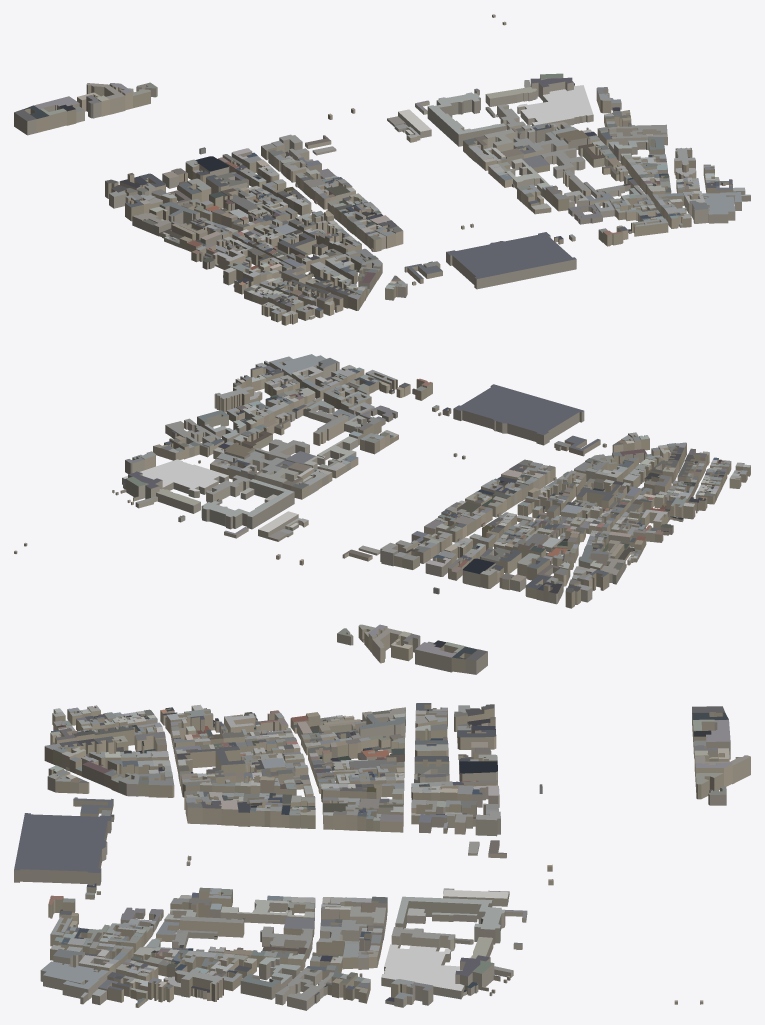
3 views of the same model, one above another, from view 1: azimuth 30°, elevation 25°; view 2: azimuth 150°, elevation 25°; view 3: azimuth 270°, elevation 25° (orthographic). The views are drawn at different scales.
Visible parts, largest first — view 1: tuile; view 2: tuile; view 3: tuile.
Part boxes in pixels (x1,y1,x2,y2): tuile: [14, 14, 750, 325]; tuile: [14, 354, 750, 674]; tuile: [14, 703, 750, 1010].
Size of the model in its own units: 1036 by 39.84 by 1095.
